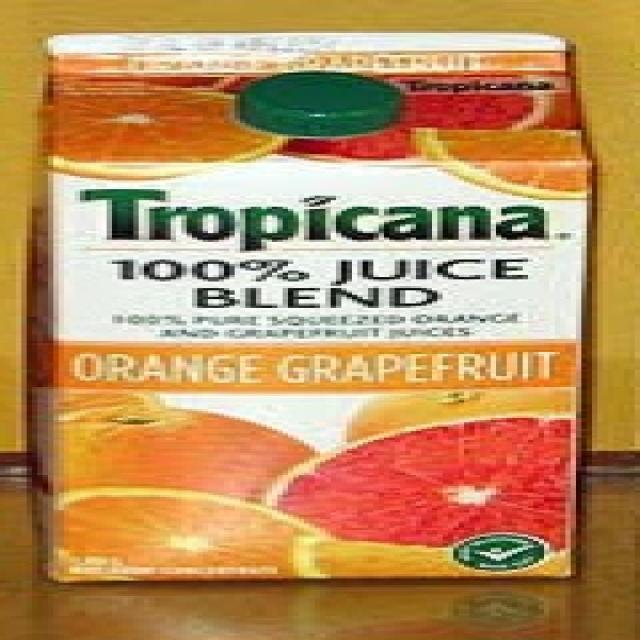drink carton: (21, 0, 640, 582)
